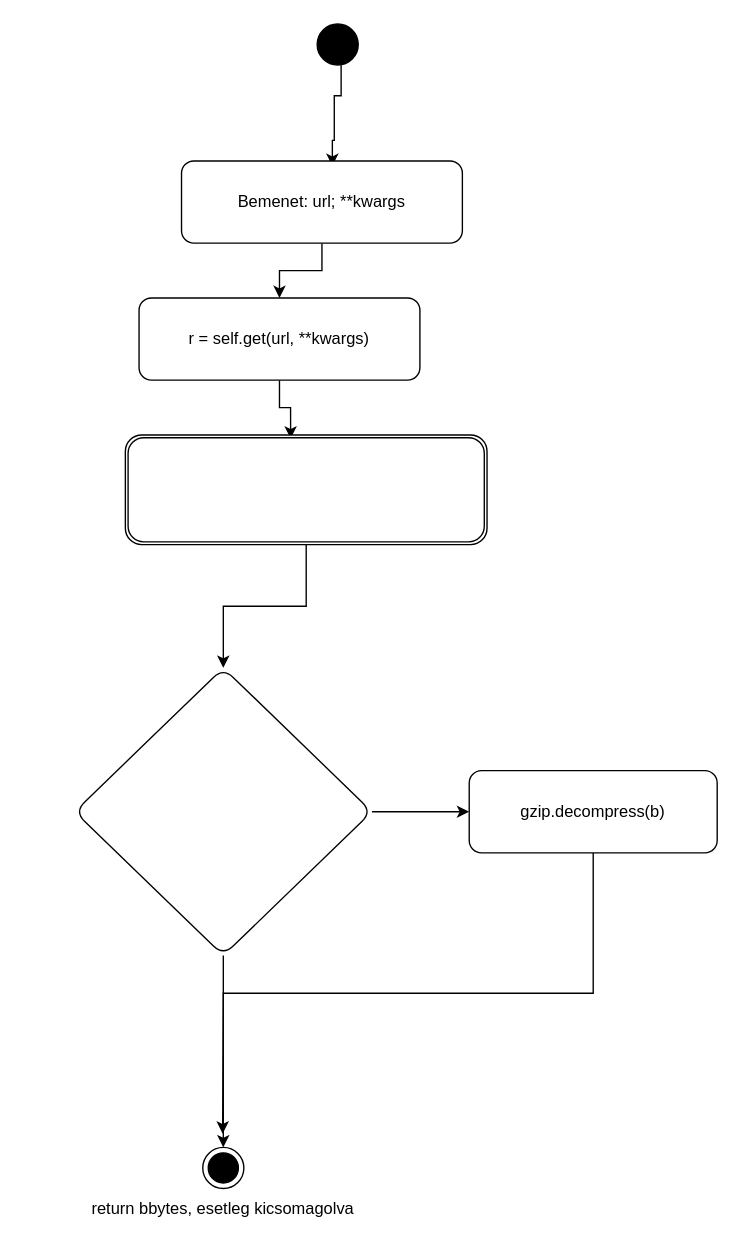
The diagram is 741 pixels wide and 1254 high, and some of its shapes have lost their labels. Each missing label, with the centre of its shape:
"b = r.content" belongs at (305,489).
"url .gz-re végződik,vagy gzip magicbytes-szal kezdődik?" belongs at (222,811).
